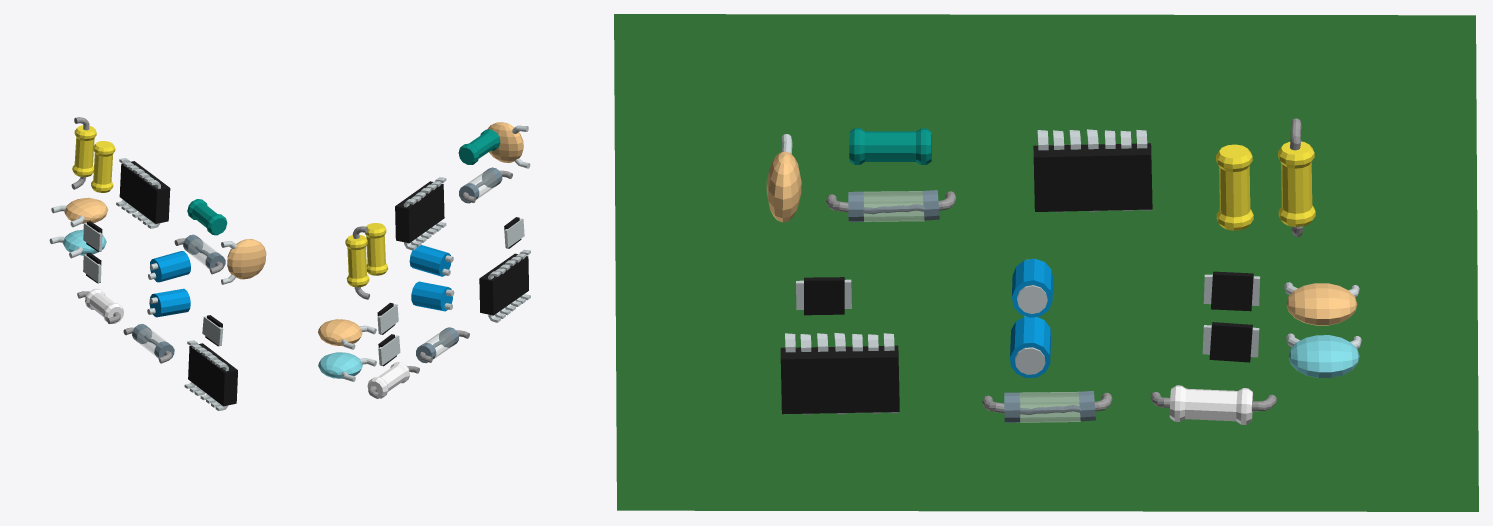
Rendered from circuit.gltf.
The picture shows the model from 3 angles, left to right: view 1: azimuth 30°, elevation 25°; view 2: azimuth 150°, elevation 25°; view 3: azimuth 270°, elevation 25°; orthographic projection. The views are drawn at different scales.
Parts seen in each view (by area): view 1: group2135967221, group1769250652, group684972054, group826636348, group378068505, group826636348.001, group1463279788, group1068192779, group1238052222, group1238052222.001, group1949913493, group664017250 (+4 smaller); view 2: group1769250652, group2135967221, group826636348, group684972054, group378068505, group375345493, group1068192779, group1463279788, group826636348.001, group1949913493, group1238052222.001, group1238052222 (+4 smaller); view 3: group502520534, group2135967221, group1769250652, group1238052222, group1238052222.001, group1949913493, group826636348, group826636348.001, group664017250, group375345493, group378068505, group1068192779 (+5 smaller).
Part boxes in pixels (x1=…): group2135967221: x1=116, y1=158, x2=170, y2=228; group1769250652: x1=184, y1=340, x2=237, y2=410; group684972054: x1=221, y1=239, x2=266, y2=284; group826636348: x1=71, y1=117, x2=96, y2=189; group378068505: x1=51, y1=197, x2=108, y2=227; group826636348.001: x1=91, y1=141, x2=115, y2=192; group1463279788: x1=148, y1=251, x2=190, y2=282; group1068192779: x1=147, y1=288, x2=190, y2=317; group1238052222: x1=174, y1=234, x2=225, y2=274; group1238052222.001: x1=123, y1=323, x2=174, y2=363; group1949913493: x1=77, y1=288, x2=123, y2=323; group664017250: x1=187, y1=199, x2=227, y2=235; group1769250652: x1=479, y1=249, x2=530, y2=322; group2135967221: x1=395, y1=177, x2=446, y2=250; group826636348: x1=345, y1=226, x2=369, y2=299; group684972054: x1=487, y1=122, x2=530, y2=168; group378068505: x1=318, y1=319, x2=376, y2=349; group375345493: x1=318, y1=352, x2=376, y2=381; group1068192779: x1=411, y1=281, x2=454, y2=311; group1463279788: x1=409, y1=245, x2=453, y2=276; group826636348.001: x1=365, y1=223, x2=388, y2=275; group1949913493: x1=367, y1=362, x2=419, y2=398; group1238052222.001: x1=416, y1=327, x2=469, y2=363; group1238052222: x1=459, y1=167, x2=512, y2=203; group502520534: x1=614, y1=14, x2=1478, y2=511; group2135967221: x1=1033, y1=129, x2=1152, y2=212; group1769250652: x1=780, y1=333, x2=899, y2=414; group1238052222: x1=826, y1=190, x2=956, y2=221; group1238052222.001: x1=982, y1=390, x2=1112, y2=422; group1949913493: x1=1150, y1=385, x2=1276, y2=424; group826636348: x1=1278, y1=118, x2=1315, y2=237; group826636348.001: x1=1216, y1=144, x2=1253, y2=230; group664017250: x1=849, y1=128, x2=931, y2=164; group375345493: x1=1286, y1=333, x2=1361, y2=377; group378068505: x1=1284, y1=282, x2=1359, y2=325; group1068192779: x1=1010, y1=316, x2=1051, y2=377.
Bounding box in the file's own units: 0.6336 × 3.68 × 5.66.
